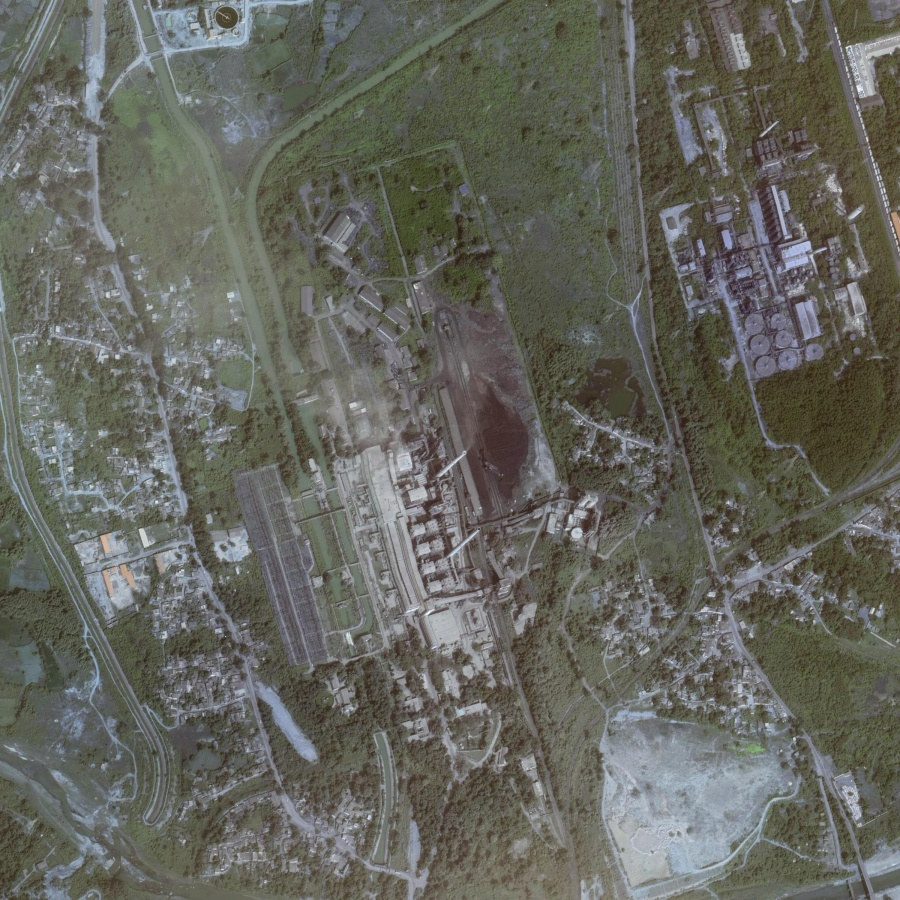PowerPlant: (342, 295, 539, 592)
